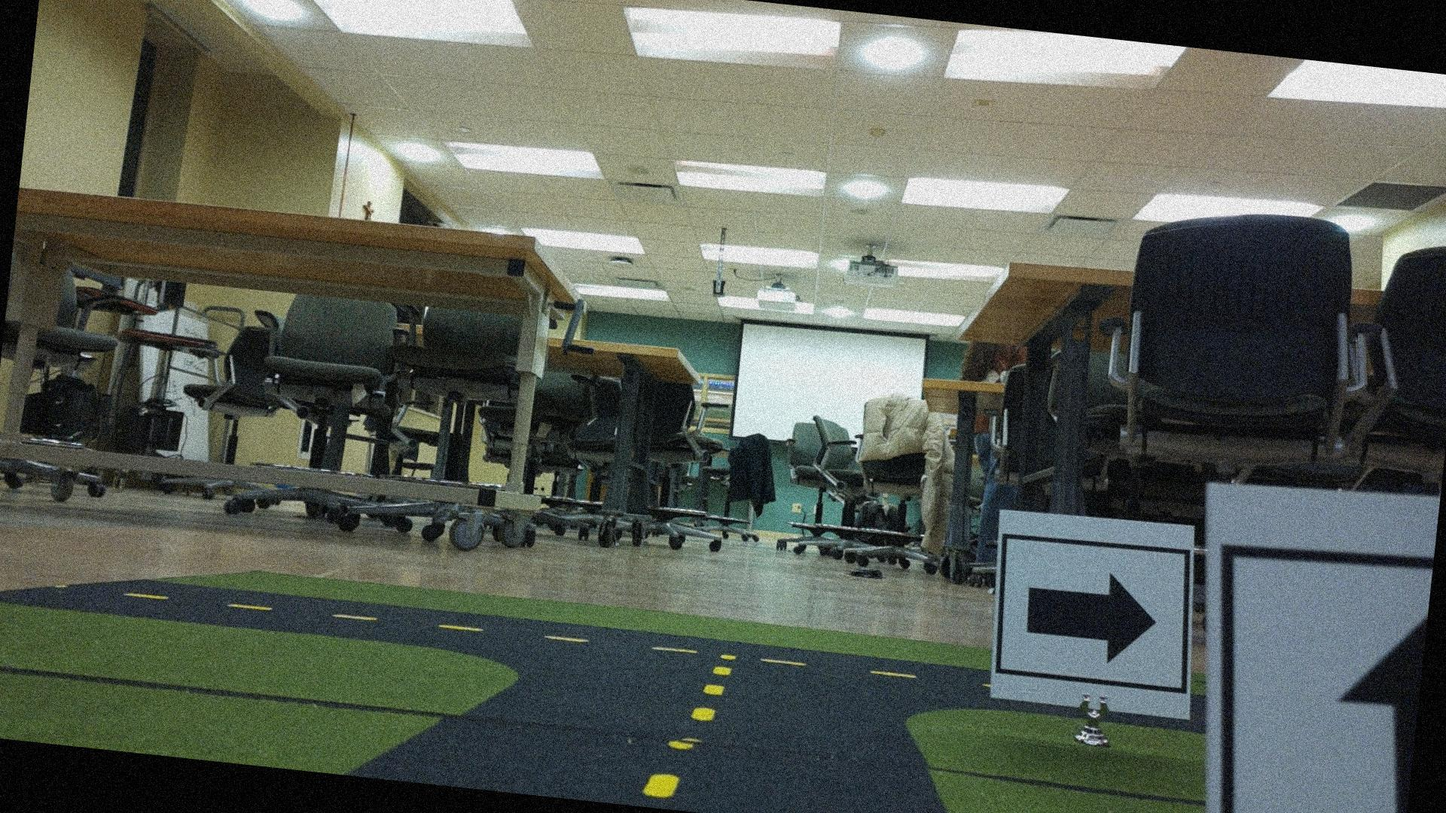turnleft: (990, 510, 1200, 713)
yellowline: (642, 656, 729, 804)
